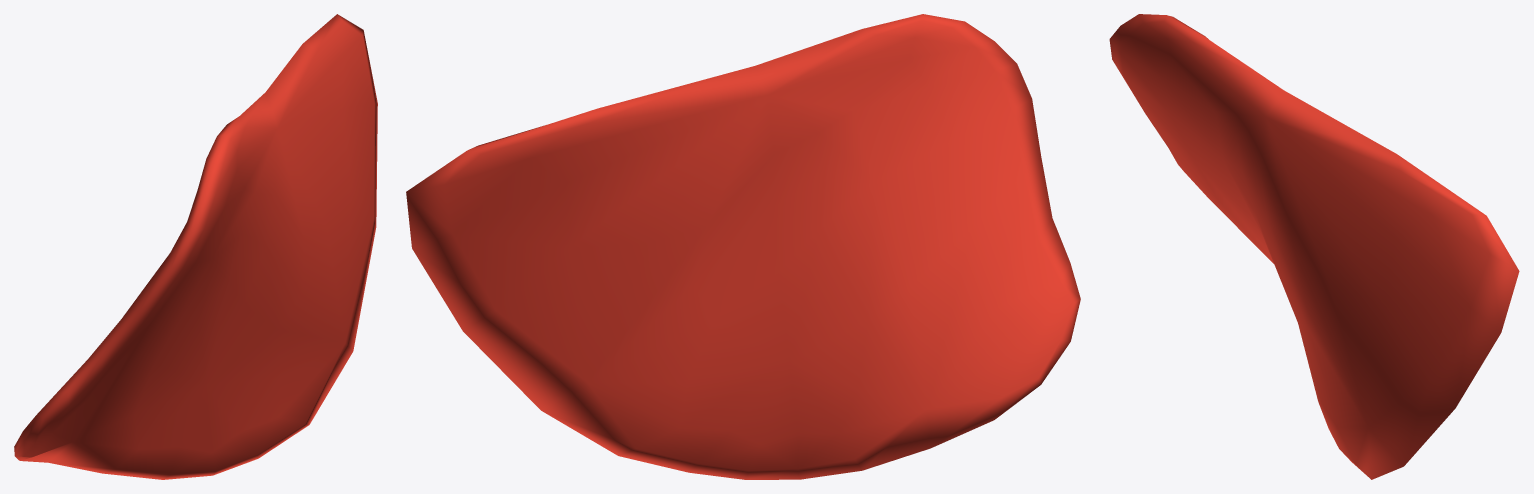
Rendered from Abductor_hallucis_medial_calcaneal_tuberosity_002.glb.
3 views of the same model, side by side, from view 1: azimuth 30°, elevation 25°; view 2: azimuth 150°, elevation 25°; view 3: azimuth 270°, elevation 25° (orthographic). The views are drawn at different scales.
Parts seen in each view (by area): view 1: Abductor_hallucis_on_medial_process_of_calcaneal_tuberosity_; view 2: Abductor_hallucis_on_medial_process_of_calcaneal_tuberosity_; view 3: Abductor_hallucis_on_medial_process_of_calcaneal_tuberosity_.
Boxes of the visible parts, left/top/right/bottom form: Abductor_hallucis_on_medial_process_of_calcaneal_tuberosity_: left=14, top=14, right=377, bottom=479; Abductor_hallucis_on_medial_process_of_calcaneal_tuberosity_: left=406, top=14, right=1080, bottom=479; Abductor_hallucis_on_medial_process_of_calcaneal_tuberosity_: left=1109, top=14, right=1519, bottom=479.
Bounding box in the file's own units: 0.0104 × 0.00829 × 0.00797.
